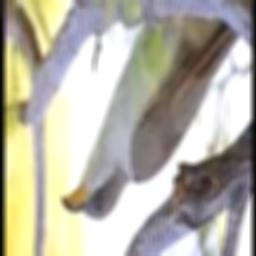Cuckoo: (62, 14, 242, 222)
